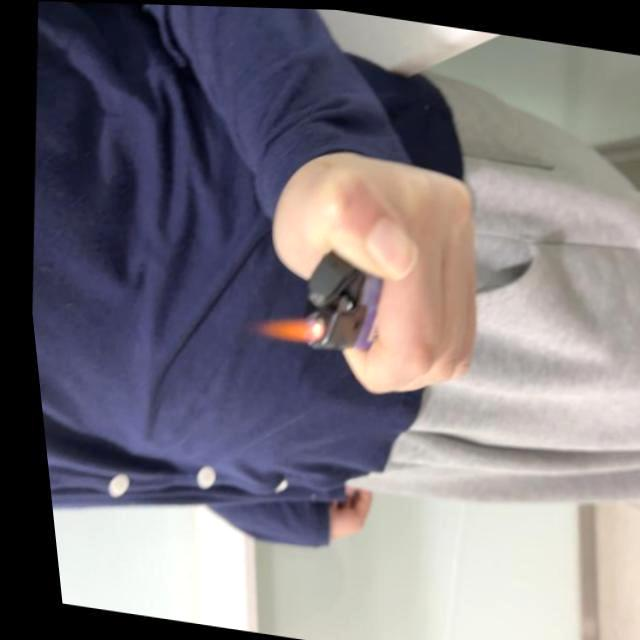fire: (239, 304, 319, 344)
